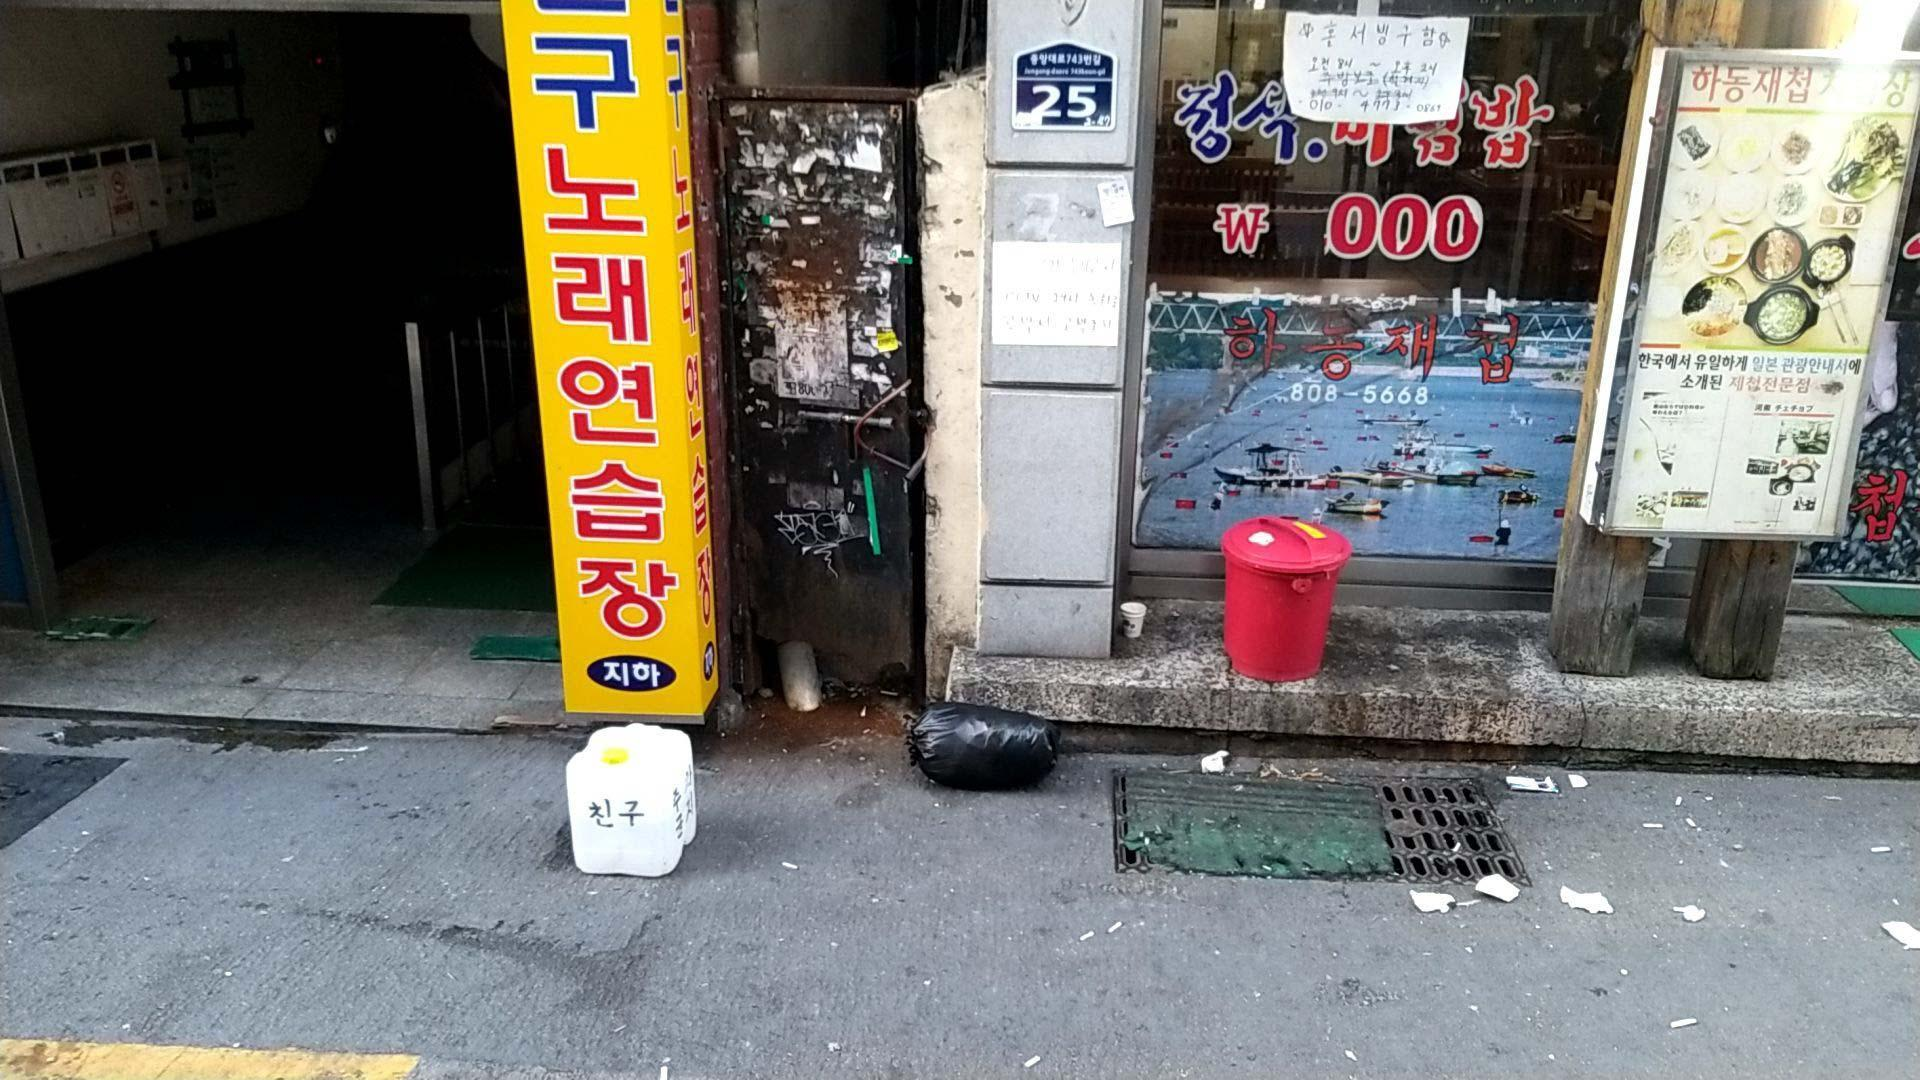black_bag: (897, 699, 1065, 808)
